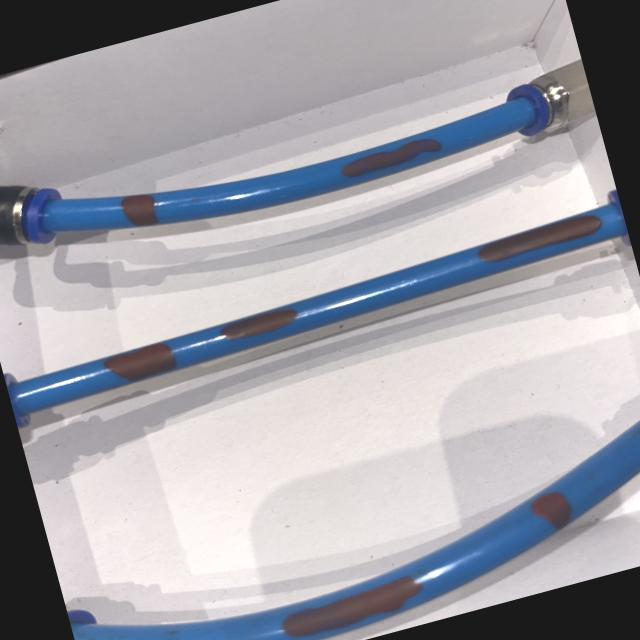hose_damage: (275, 570, 431, 640), (472, 208, 608, 269), (336, 130, 448, 182), (100, 336, 180, 390), (216, 300, 304, 346), (526, 484, 579, 534), (119, 188, 164, 232)
